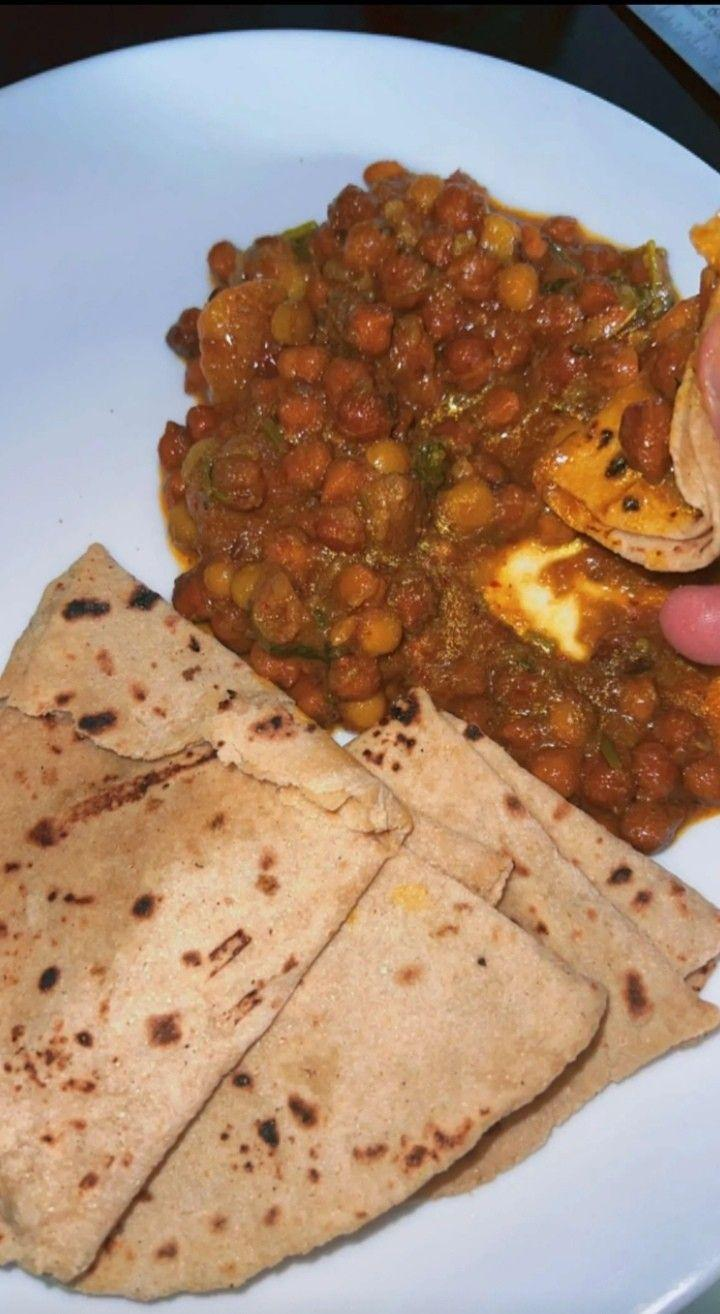chole: (233, 184, 720, 737)
roti phulka: (33, 591, 450, 1199)
